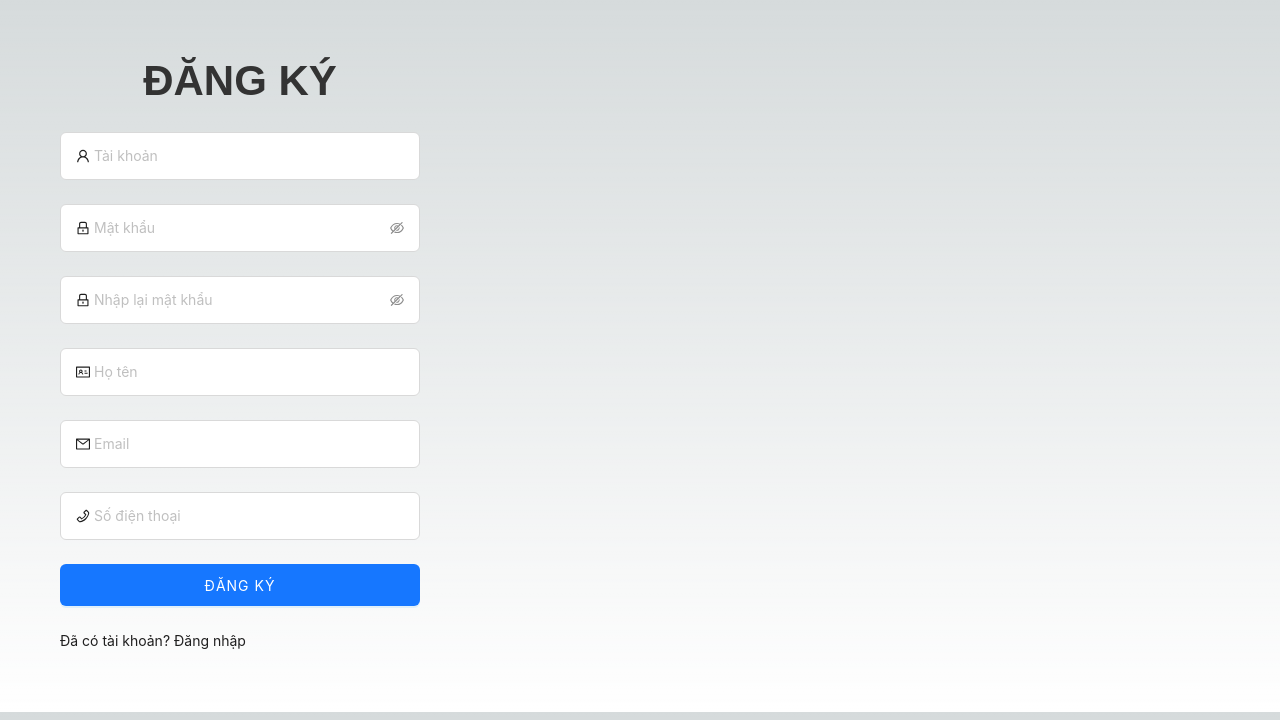
Scenario: DangKy Page › shows error message when register fields are empty
Click the button "ĐĂNG KÝ": (240, 585) [60,564,420,606]
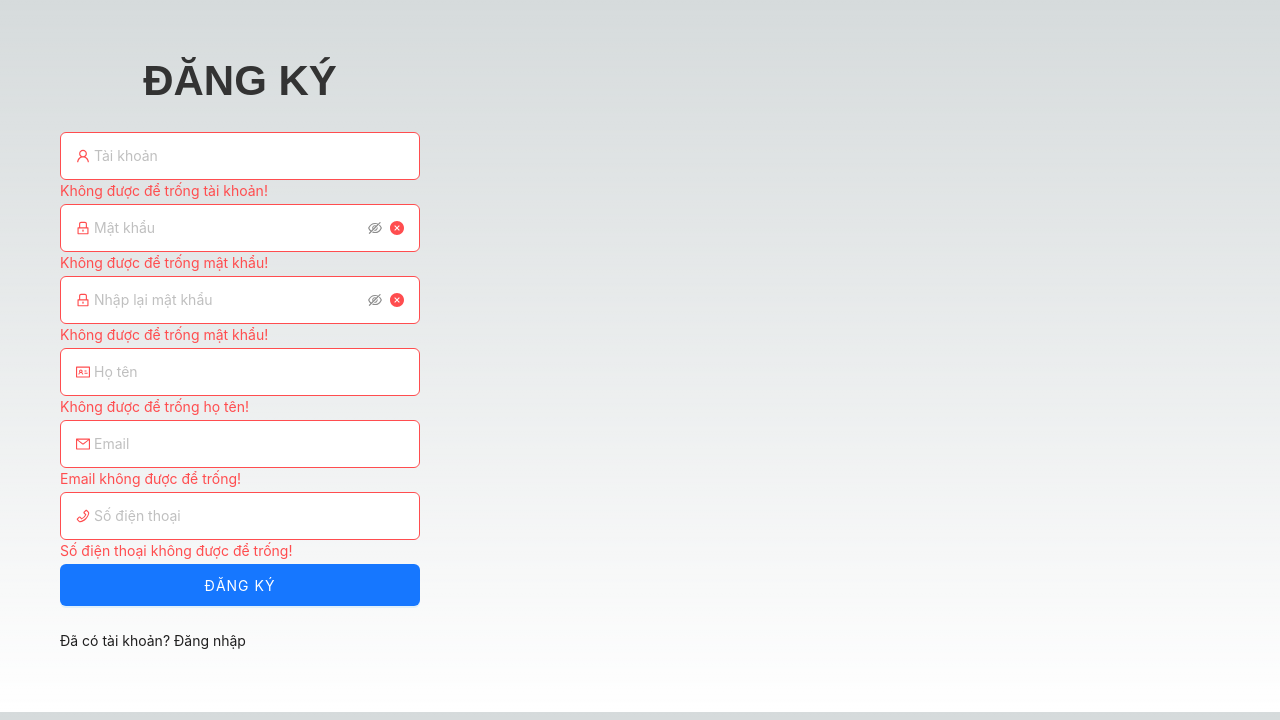
Check: the text "Không được để trống tài khoản!" is shown, box [60,182,268,199]
Check: the text "Không được để trống mật khẩu!" is shown 2 times, box [60,254,268,271]; [60,326,268,343]
Check: the text "Không được để trống họ tên!" is shown, box [60,398,249,415]
